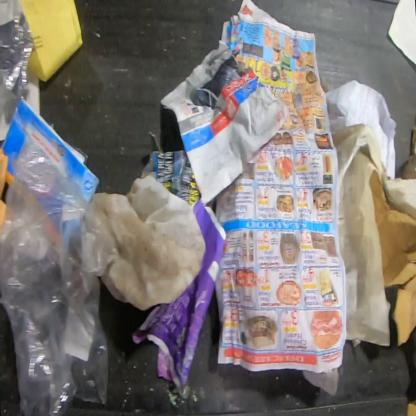cardboard: (370, 168, 415, 348)
soft_plastic: (0, 137, 118, 416), (89, 174, 207, 310), (0, 10, 37, 98)
